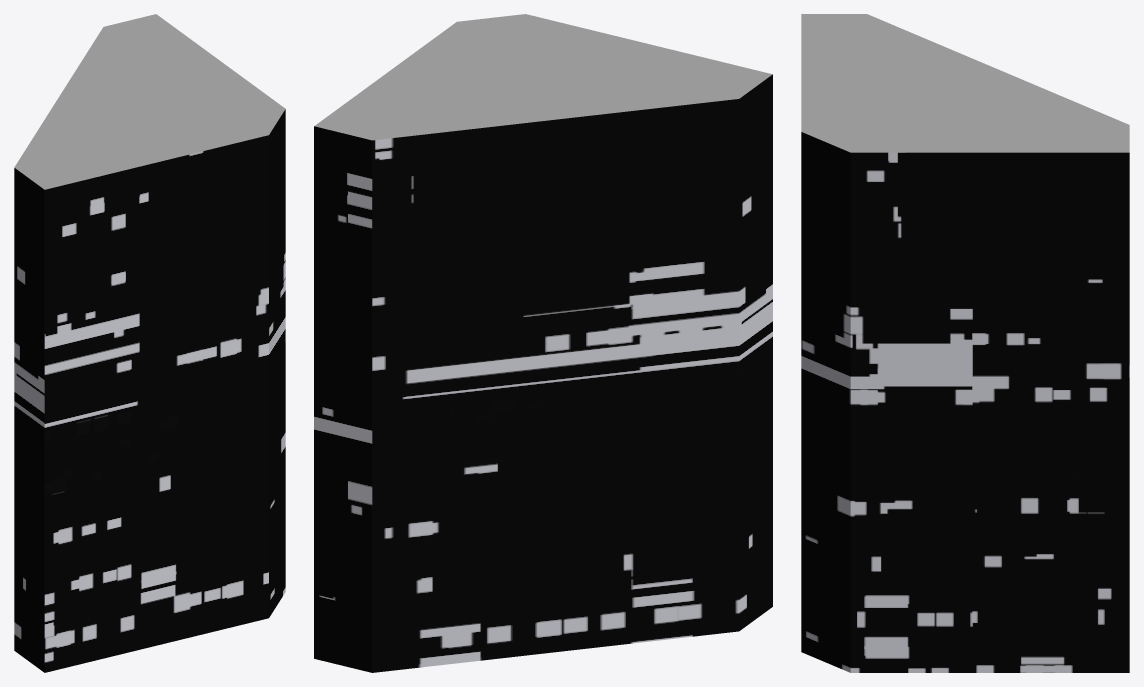
The model's file is Building07.fbx.
3 renders of one model, left to right at view 1: azimuth 30°, elevation 25°; view 2: azimuth 150°, elevation 25°; view 3: azimuth 270°, elevation 25°, orthographic. The views are drawn at different scales.
Parts seen in each view (by area): view 1: Building07; view 2: Building07; view 3: Building07.
Part boxes in pixels (box(x1,y1,x2,y2)): Building07: box(14, 14, 285, 672); Building07: box(314, 14, 772, 672); Building07: box(801, 14, 1129, 672).
Bounding box in the file's own units: 0.3639 × 0.6368 × 0.3639.
